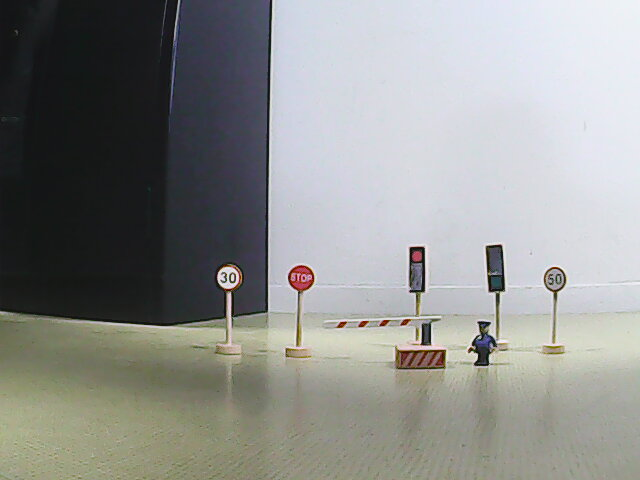barrier: (319, 313, 450, 373)
green_traffic_sign: (484, 244, 505, 293)
person: (466, 319, 499, 369)
red_traffic_sign: (408, 247, 426, 293)
sign_30: (215, 262, 243, 293)
sign_50: (543, 266, 567, 294)
stop_sign: (287, 265, 316, 293)
